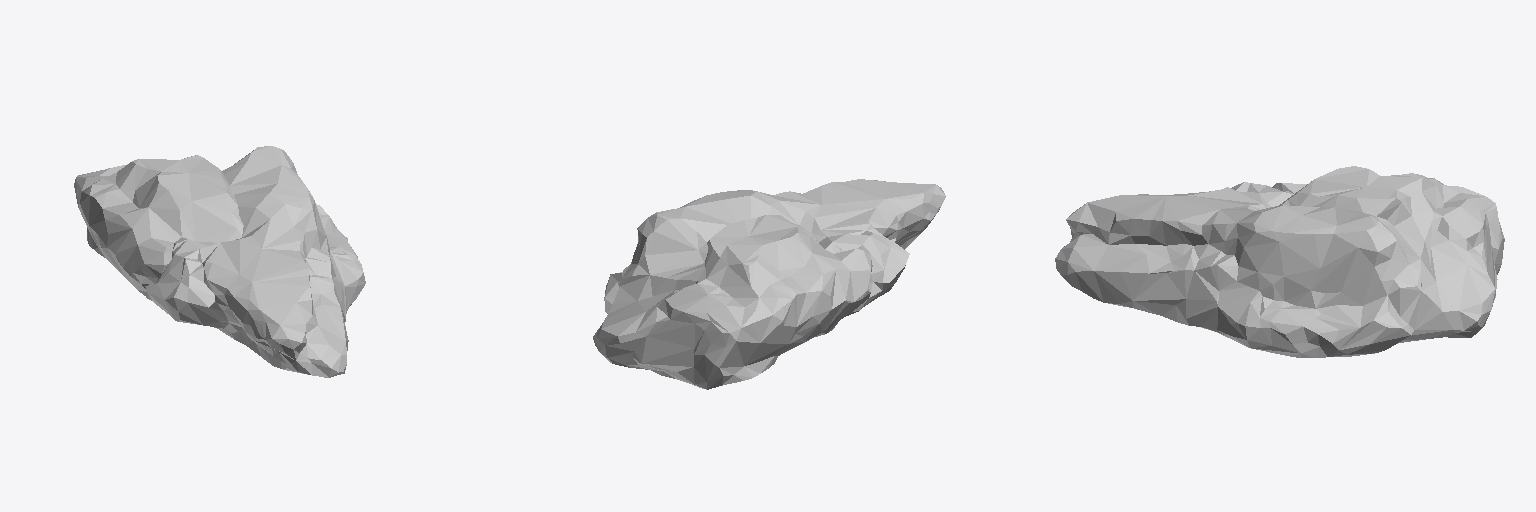
Rendered from nat-rock-scaled.obj.
3 renders of one model, left to right at view 1: azimuth 30°, elevation 25°; view 2: azimuth 150°, elevation 25°; view 3: azimuth 270°, elevation 25°, orthographic.
Visible parts, largest first — view 1: nat-rock; view 2: nat-rock; view 3: nat-rock.
Part boxes in pixels (x1,y1,x2,y2): nat-rock: (74,146,365,377); nat-rock: (593,179,945,389); nat-rock: (1055,166,1504,357).
Bounding box in the file's own units: 3.28 × 1.65 × 5.54.